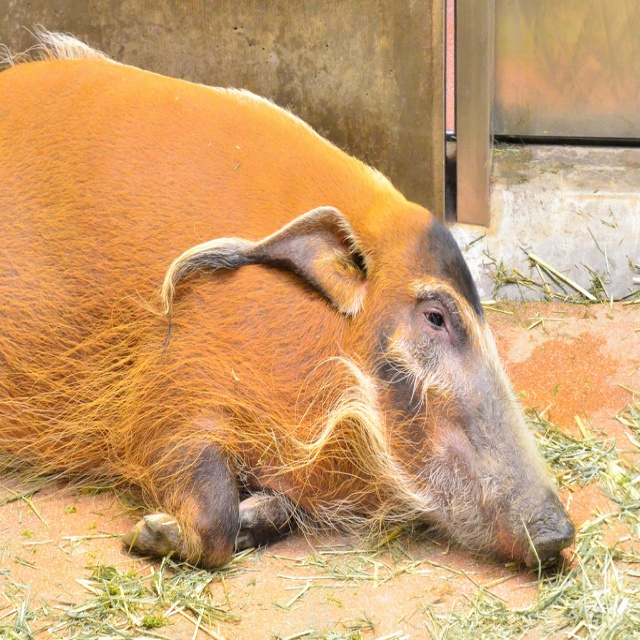Pig: (0, 20, 576, 573)
